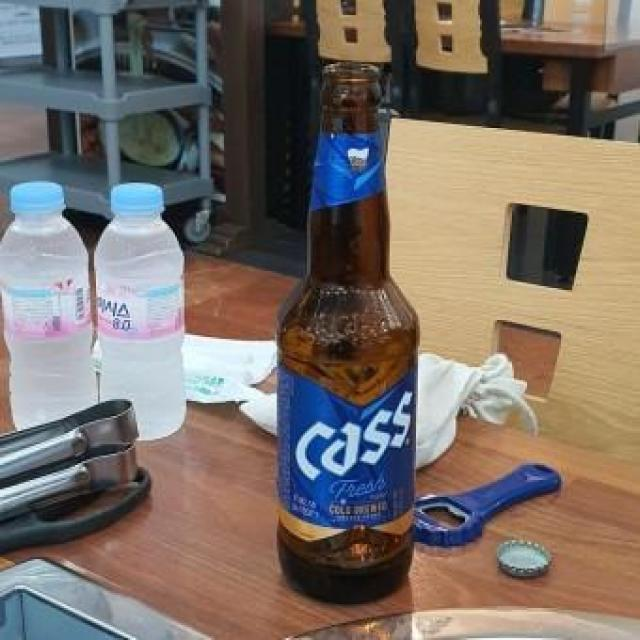beer-bottle: (260, 58, 436, 606)
